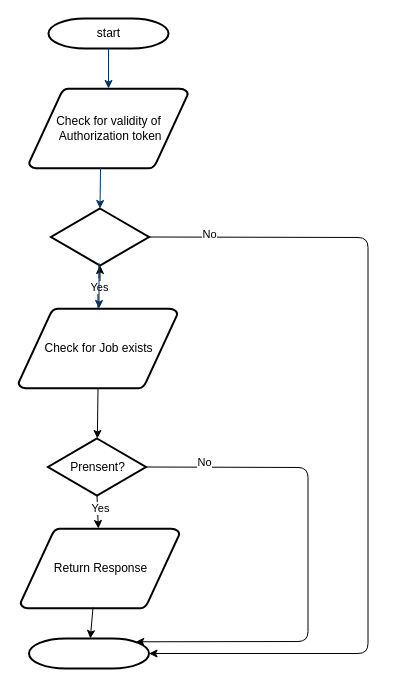
Some shapes in this 393 by 686 pixel diagram are drawn without their labels. Here are the shapes that lost their labels. From the top down, the centre of each, then its label:
[100,236]: Valid?
[89,653]: end
